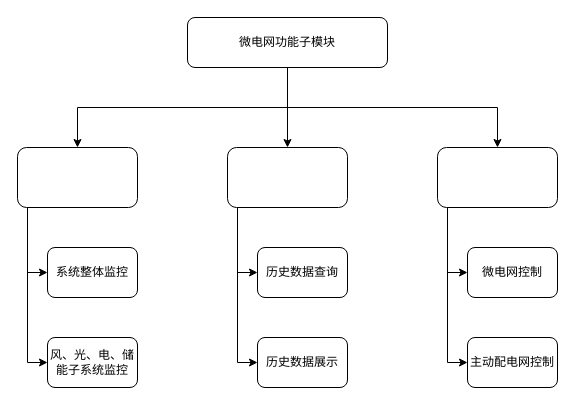
Image size: 575x405. Some labels were removed from this diagram. The box of each missing label's shape, as (x1, y1, x2, y2) in pixels:
控制: (436, 146, 558, 208)
查询与统计: (226, 146, 348, 208)
监控: (16, 146, 138, 208)
